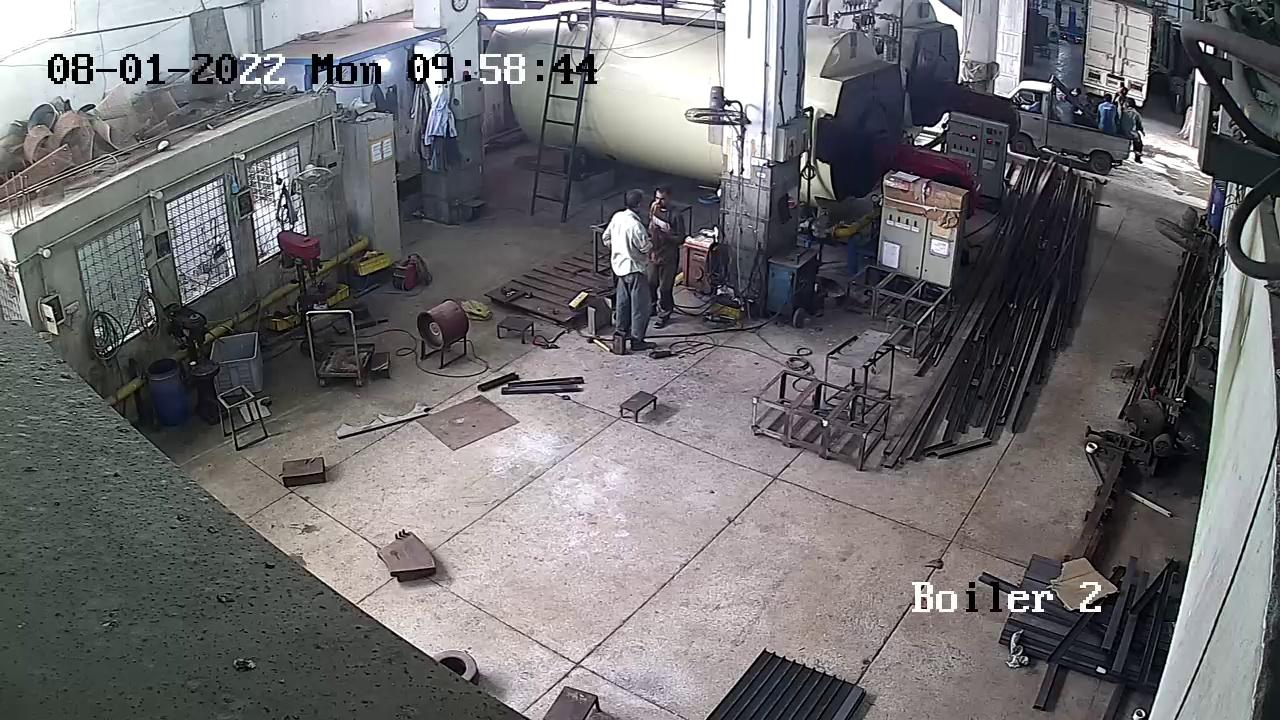person: (646, 183, 692, 322), (614, 187, 646, 342)
